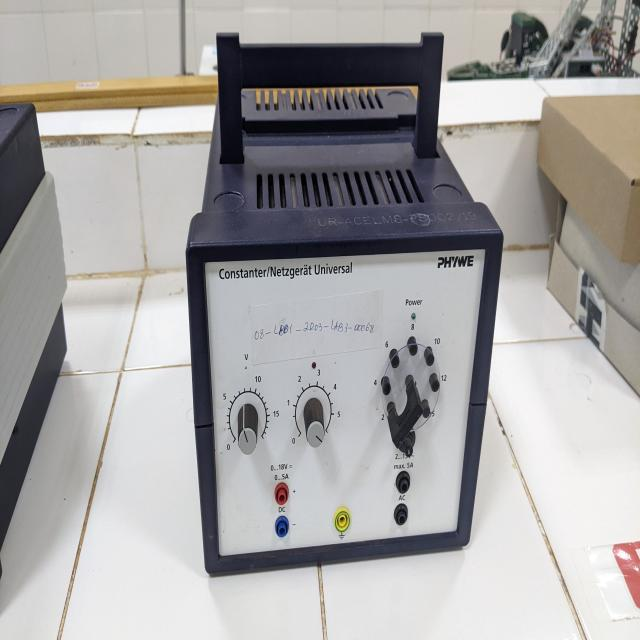Netzgerat Universal Power Supply: (170, 11, 513, 585)
